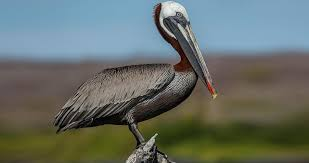pelican: (54, 1, 218, 141)
